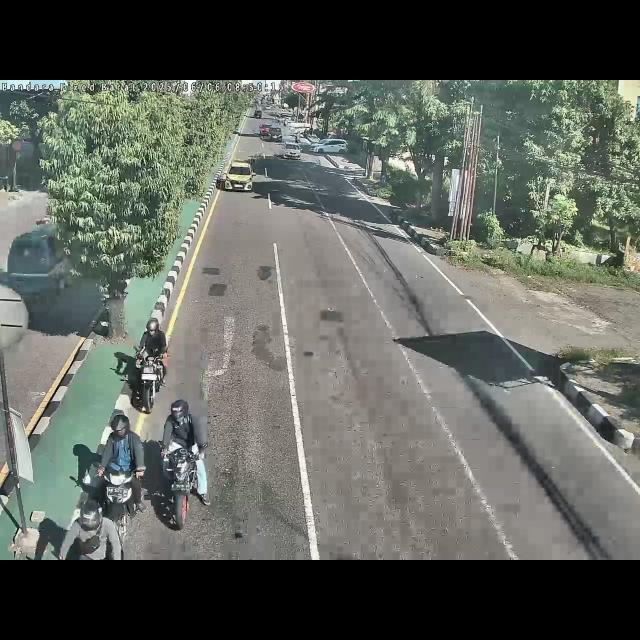Mobil: (220, 156, 258, 198)
Motor: (90, 407, 152, 549), (156, 396, 214, 534), (54, 498, 124, 560), (132, 312, 168, 416)
